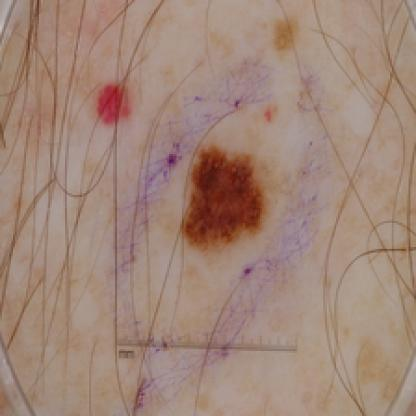malignant: (186, 150, 262, 240), (89, 72, 134, 134), (260, 9, 295, 54)
